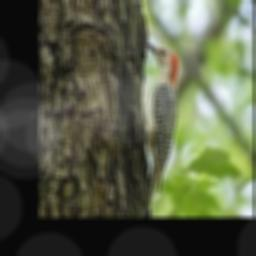Woodpecker: (128, 42, 178, 210)
